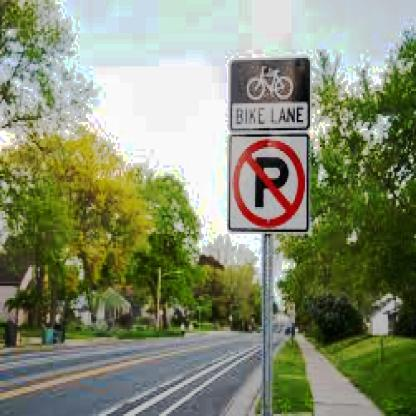No parking: (225, 137, 306, 237)
